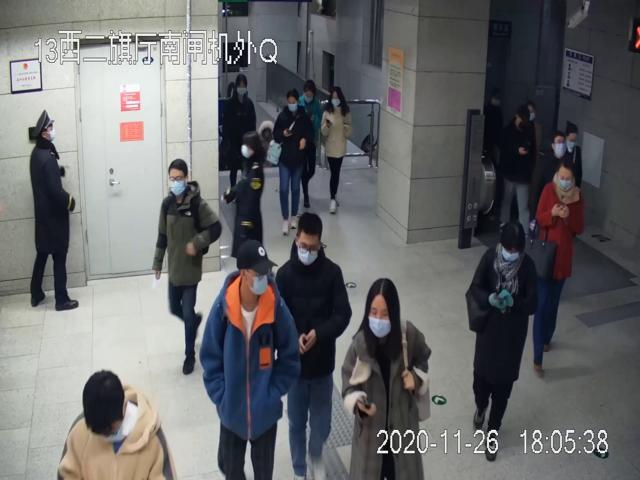person: (200, 238, 301, 480), (276, 212, 352, 480), (342, 276, 432, 480), (464, 216, 536, 459), (153, 160, 222, 374), (26, 111, 83, 313), (534, 159, 586, 375), (222, 135, 268, 265), (272, 90, 311, 232), (319, 85, 351, 215)
